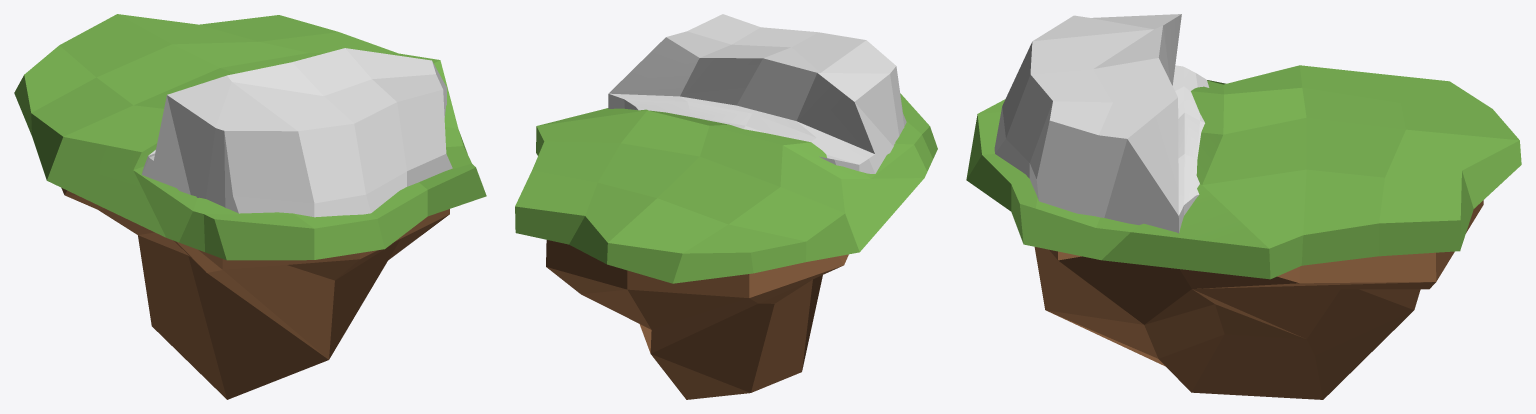
File: plataforma 003 2 niveis (remake).fbx
The picture shows the model from 3 angles, left to right: view 1: azimuth 30°, elevation 25°; view 2: azimuth 150°, elevation 25°; view 3: azimuth 270°, elevation 25°; orthographic projection. The views are drawn at different scales.
Visible parts, largest first — view 1: topo, pedra, base; view 2: topo, pedra, base; view 3: topo, base, pedra.
Part boxes in pixels (box(x1,y1,x2,y2)): topo: box(14, 14, 486, 260); pedra: box(142, 48, 452, 217); base: box(61, 188, 449, 399); topo: box(515, 93, 937, 283); pedra: box(608, 14, 906, 173); base: box(546, 240, 848, 399); topo: box(966, 65, 1521, 279); base: box(1034, 200, 1483, 399); pedra: box(994, 14, 1209, 233).
Bounding box in the file's own units: 333 × 280 × 410.
